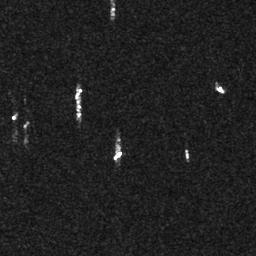ship: (215, 83, 227, 95), (112, 150, 124, 161), (184, 148, 191, 160)
